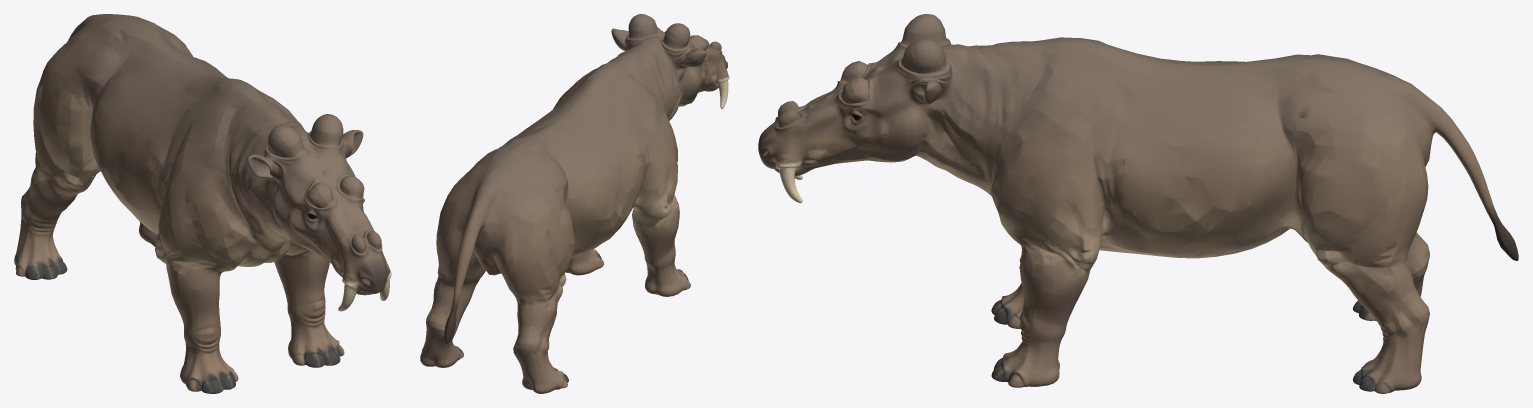
3 renders of one model, left to right at view 1: azimuth 30°, elevation 25°; view 2: azimuth 150°, elevation 25°; view 3: azimuth 270°, elevation 25°, orthographic. The views are drawn at different scales.
Visible parts, largest first — view 1: UintatheriumBody; view 2: UintatheriumBody; view 3: UintatheriumBody.
Part boxes in pixels (bbox=[...]): UintatheriumBody: bbox=[14, 14, 391, 393]; UintatheriumBody: bbox=[420, 14, 729, 393]; UintatheriumBody: bbox=[758, 14, 1518, 393].
Bounding box in the file's own units: 0.3036 × 0.4667 × 1.
Materials: 2 (2 with a texture image).
